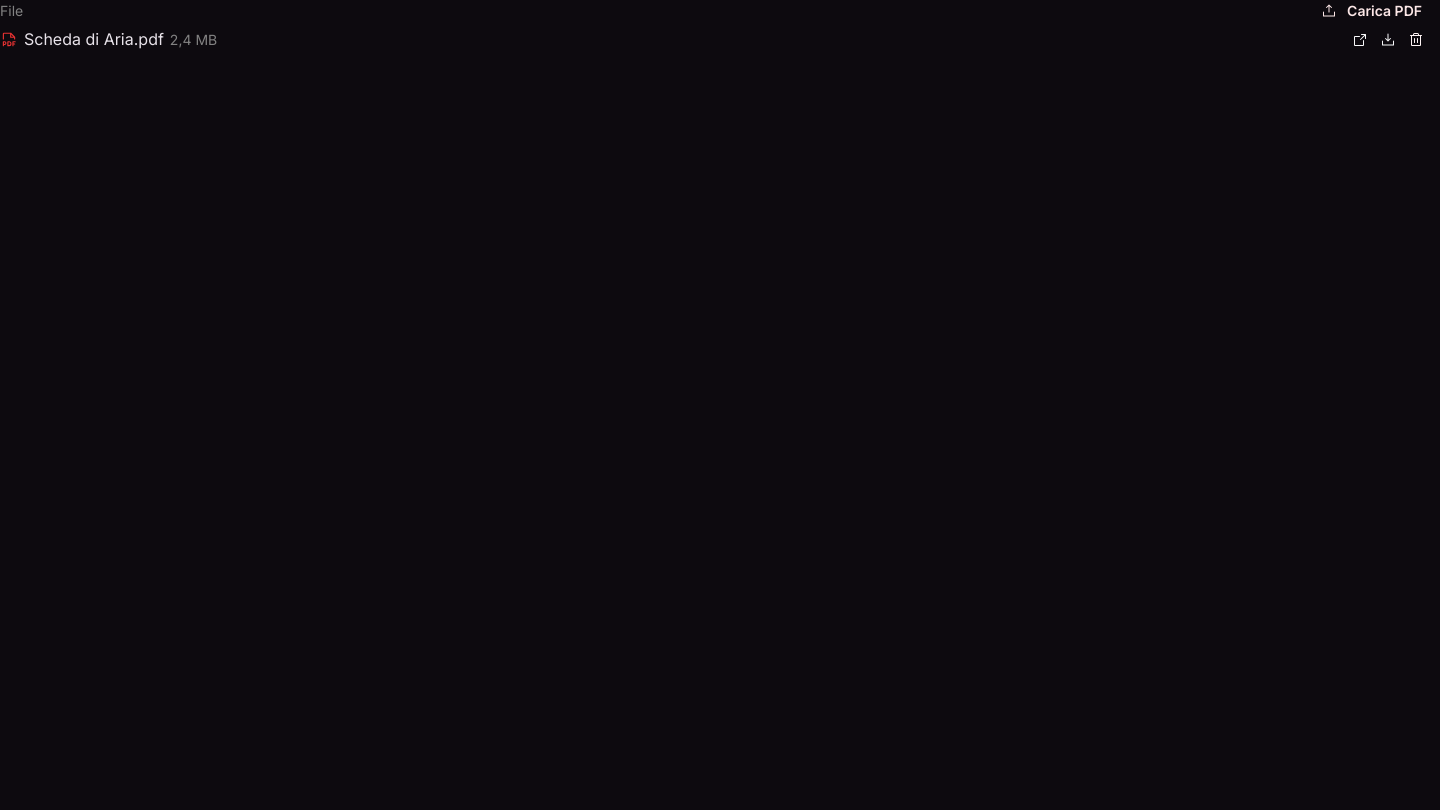
Scenario: deleting › does nothing when cancelled
Click the button named "Elimina Scheda di Aria.pdf": [1416, 40] box [1402,26,1430,54]
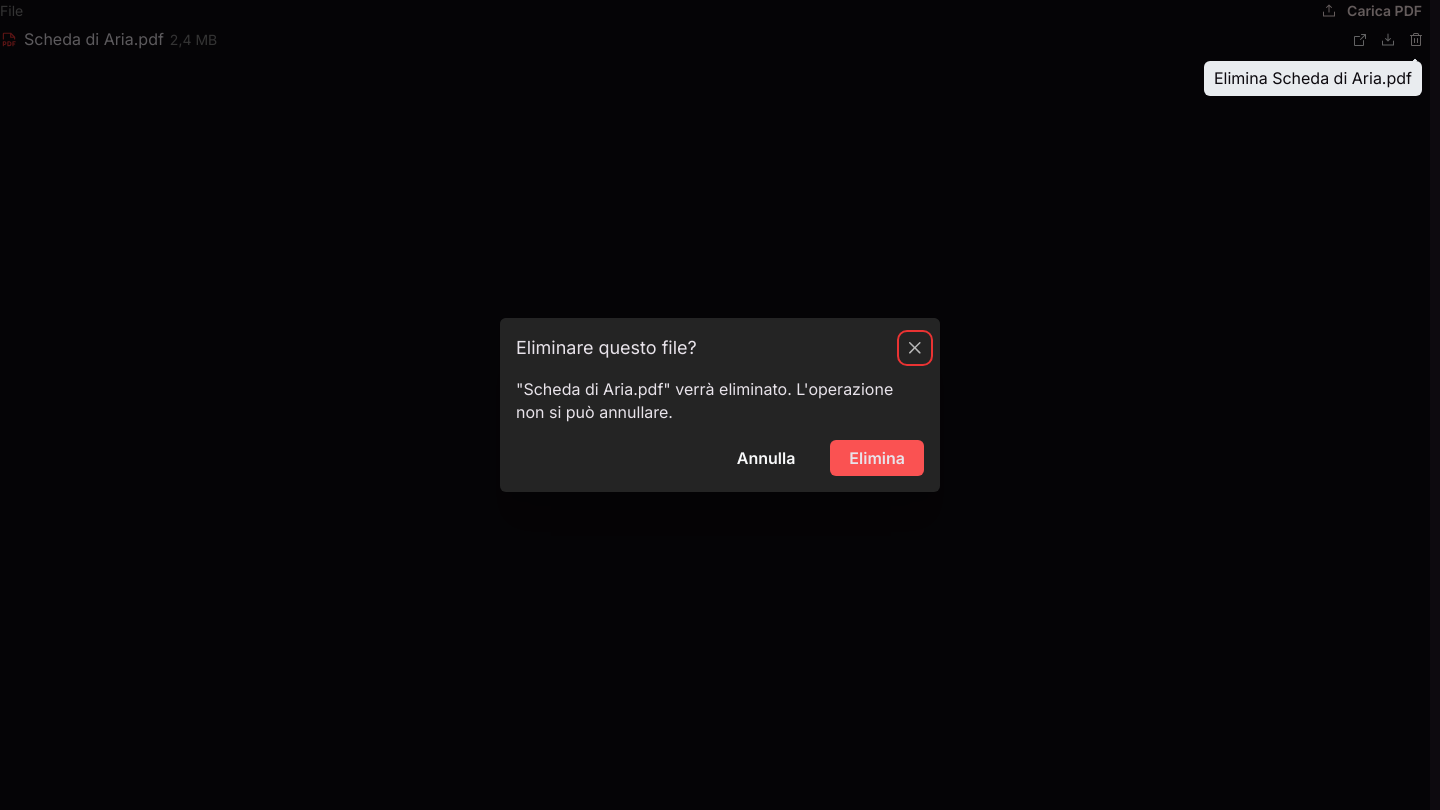
Click the button "Annulla": [766, 458] box [718,440,814,476]
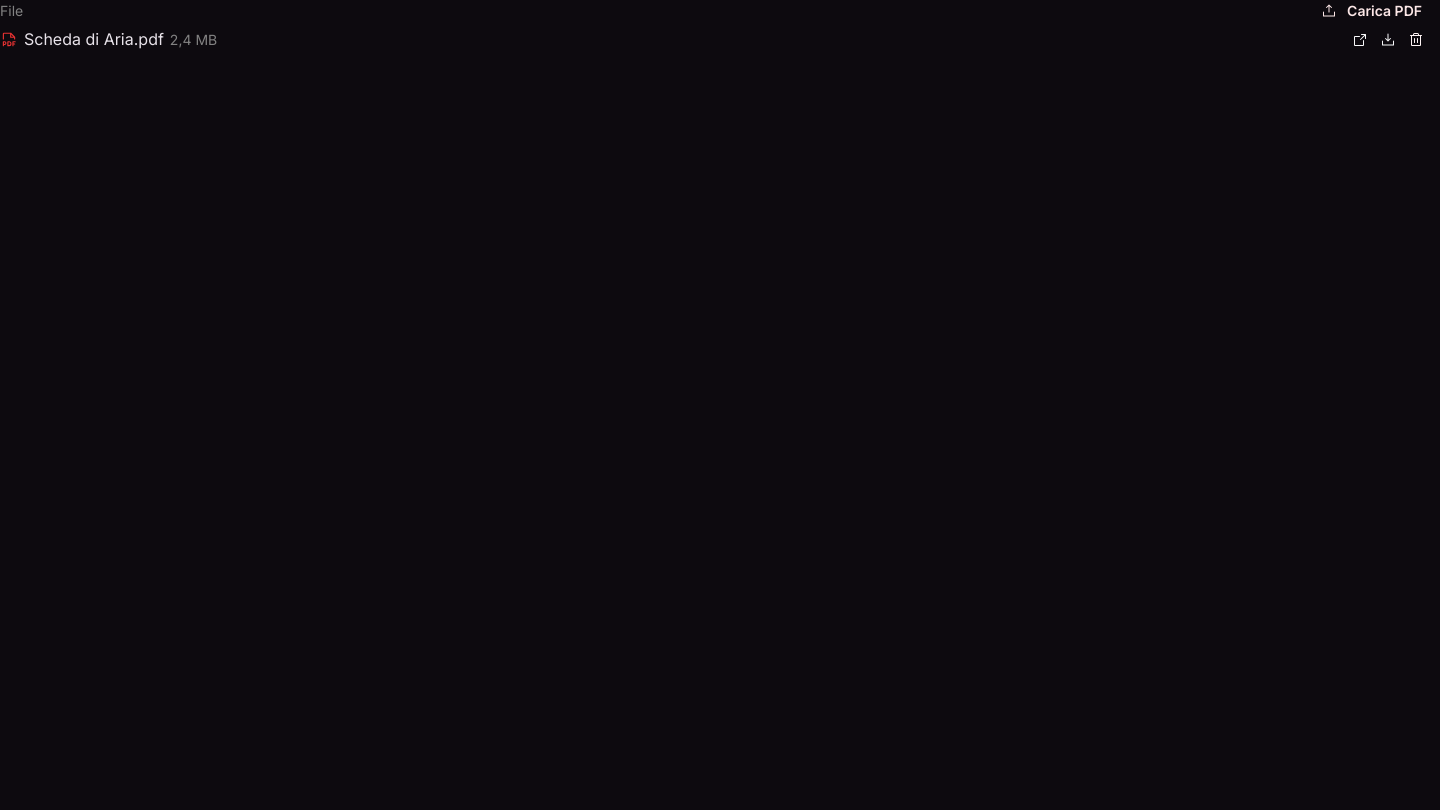
Result: the text "verrà eliminato" is gone
